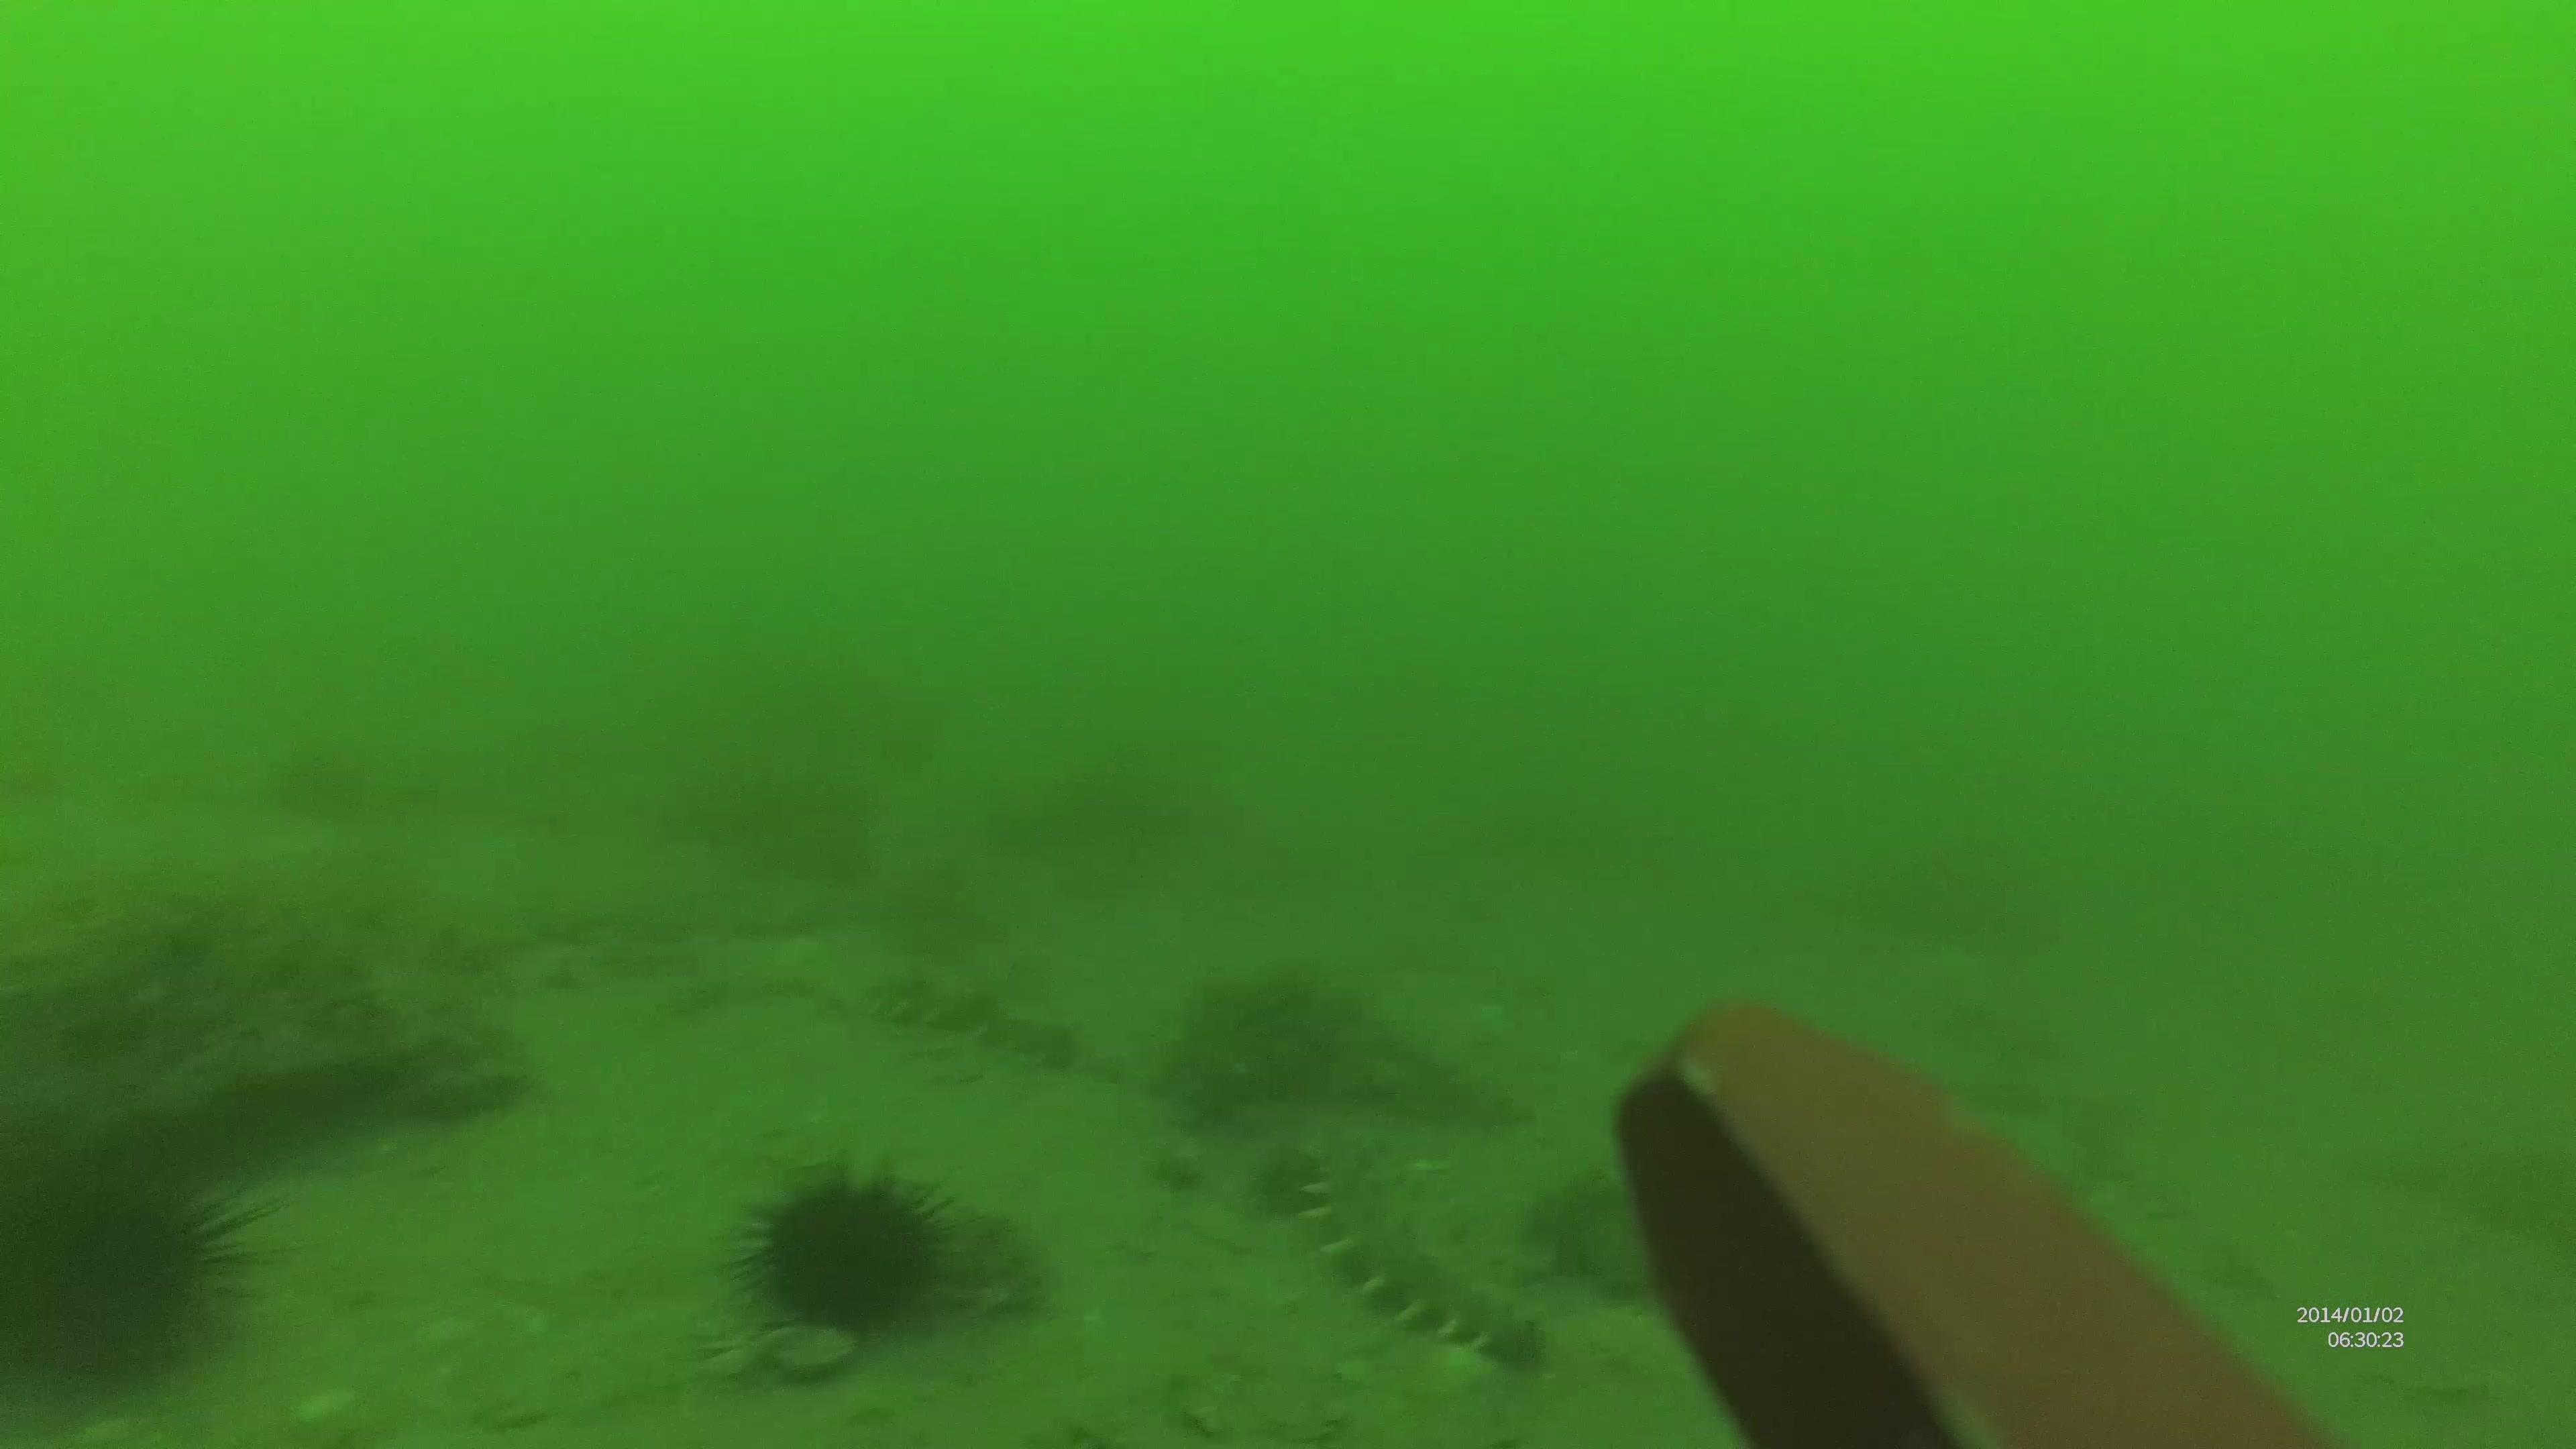echinus: (0, 1131, 274, 1371), (724, 1164, 970, 1348)
holothurian: (1306, 1131, 1559, 1375), (858, 971, 1083, 1074)
